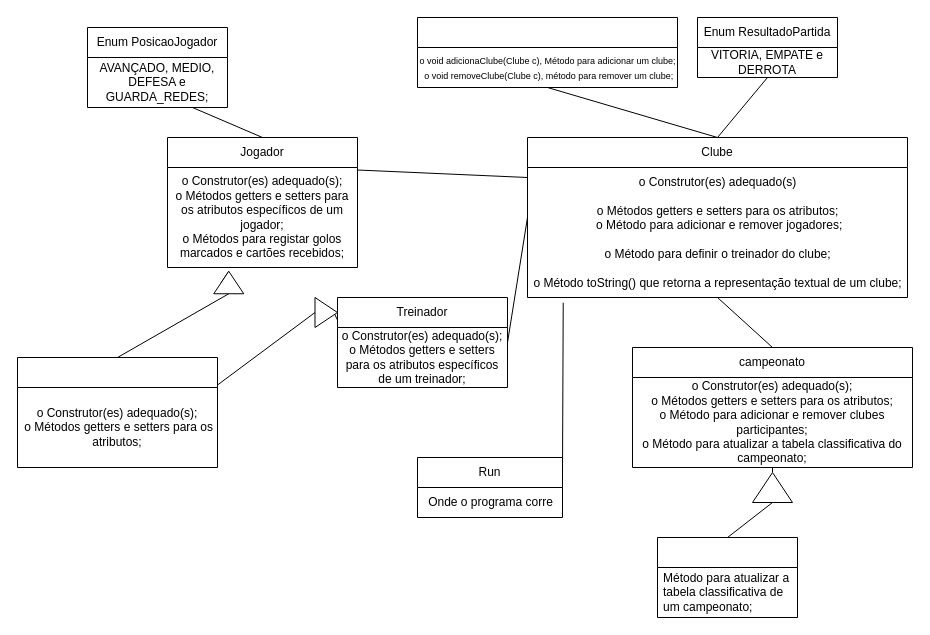
Some shapes in this 930 by 635 pixel diagram are drawn without their labels. The box of each missing label's shape, as (x1, y1, x2, y2) in pixels:
gestaocampeonato: (656, 536, 798, 618)
gestaoclube: (416, 16, 678, 88)
pessoa(super classe): (16, 356, 218, 468)
